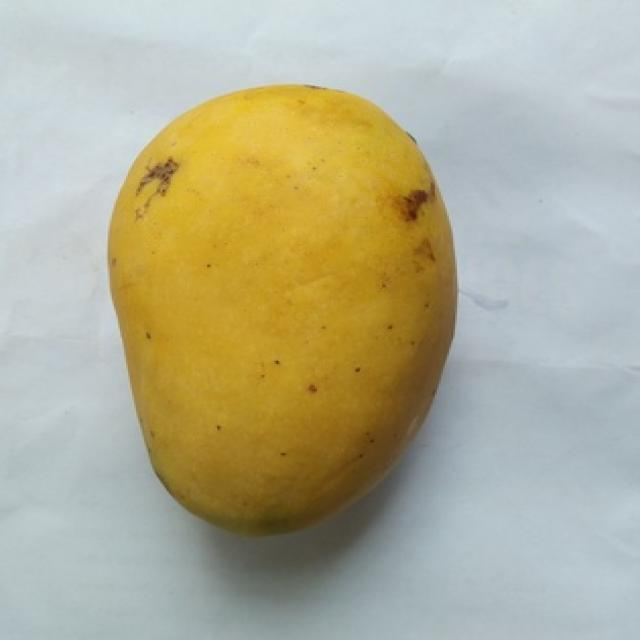Mango: (110, 85, 451, 533)
